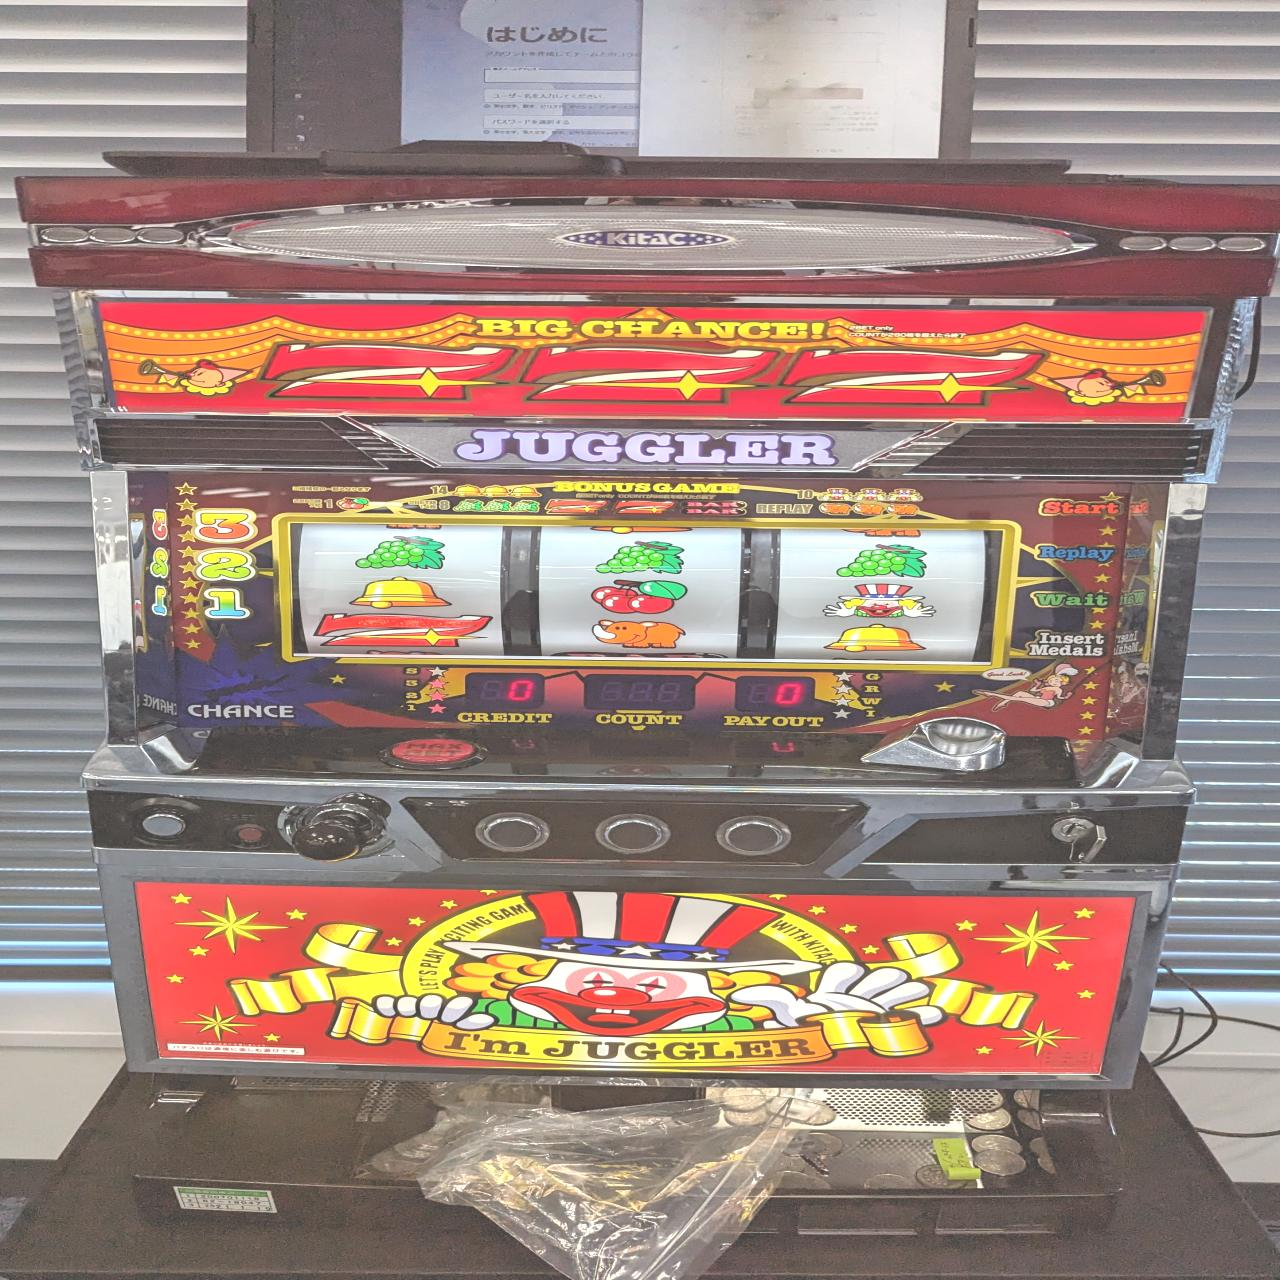7: (311, 611, 495, 651)
8: (585, 618, 689, 651)
Display: (282, 524, 1013, 666)
bell: (347, 574, 455, 610), (821, 621, 928, 654)
cherry: (587, 578, 688, 615)
clown: (817, 581, 940, 619)
grape: (591, 538, 690, 577), (833, 542, 932, 579), (352, 535, 449, 572)
